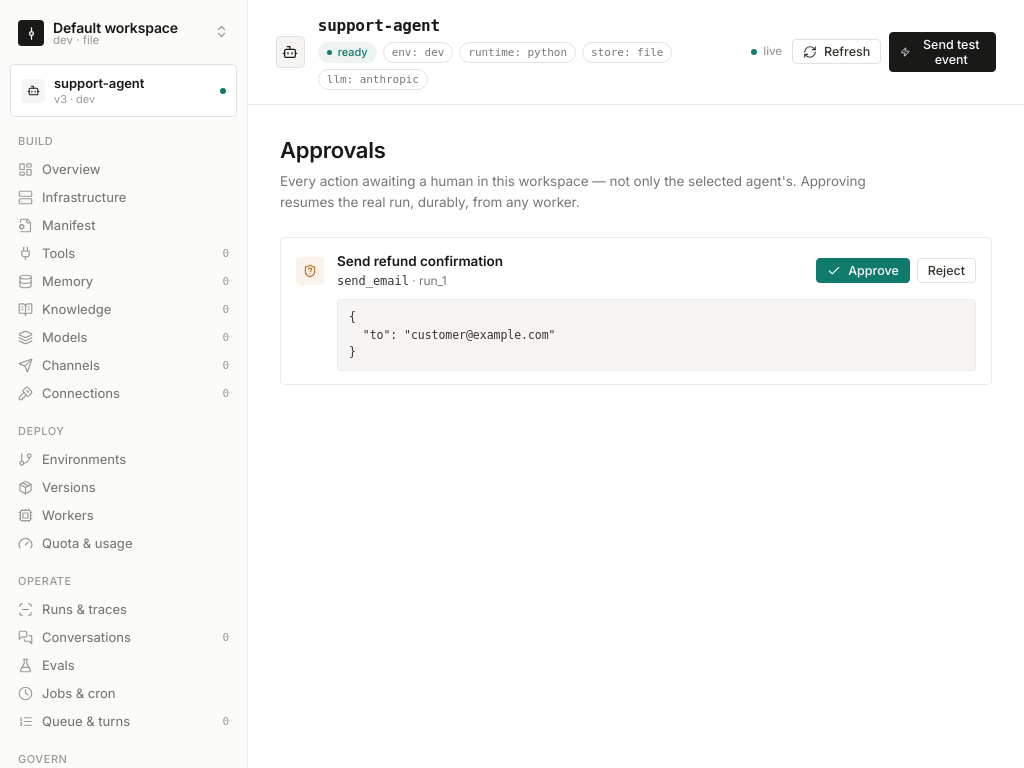
it: a 401 the credential does not explain › leaves the dialog shut and reports what is actually wrong
The image size is (1024, 768).
Expected: the text "support-agent" is shown, [54,73,144,93]
Click the button "Approve" at point(863, 271), box [816,258,910,283]
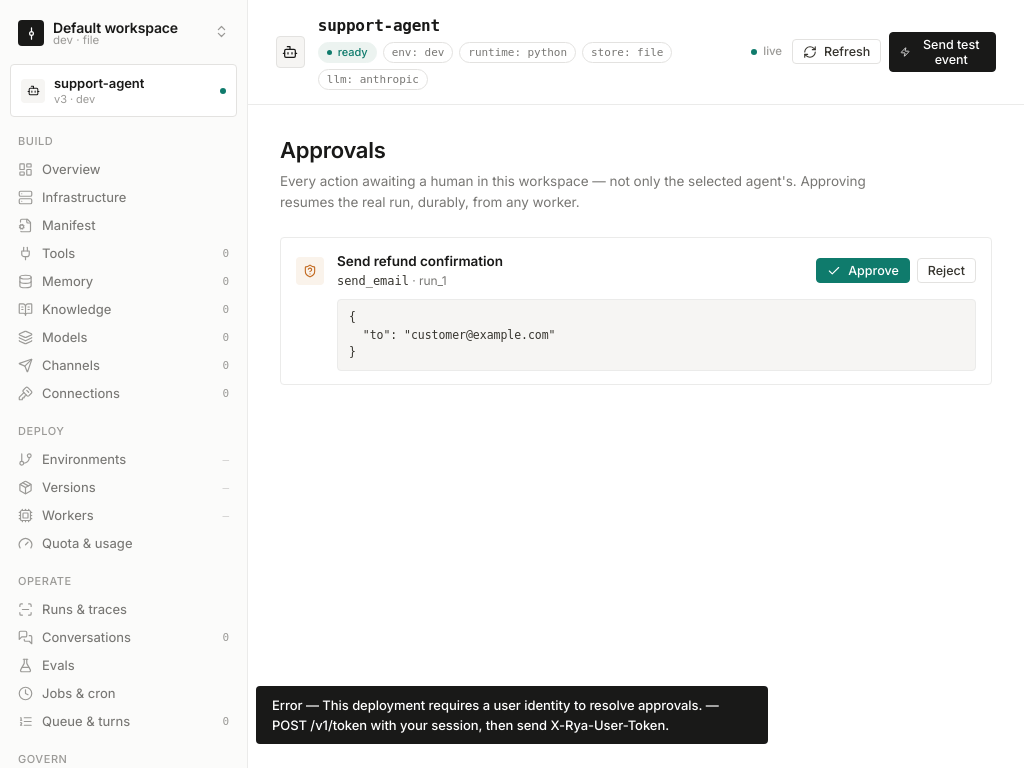
Expected: the text "Send refund confirmation" is shown, [337,251,503,272]
Now the text "X-Rya-User-Token" is shown, box [272,697,719,733]
